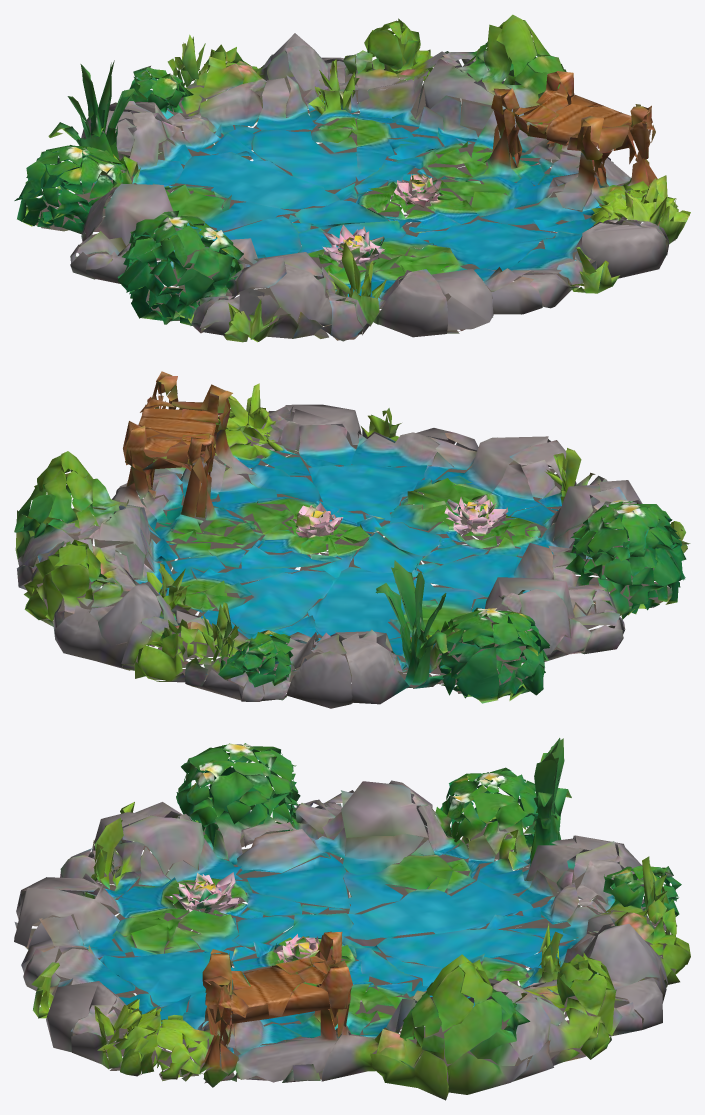
The model's file is lake.glb.
3 views of the same model, one above another, from view 1: azimuth 30°, elevation 25°; view 2: azimuth 150°, elevation 25°; view 3: azimuth 270°, elevation 25° (orthographic). The views are drawn at different scales.
Visible parts, largest first — view 1: Mesh_0; view 2: Mesh_0; view 3: Mesh_0.
Boxes of the visible parts, box(x1,y1,x2,y2) form: Mesh_0: box(14, 14, 690, 342); Mesh_0: box(14, 371, 690, 708); Mesh_0: box(14, 738, 690, 1100).
Bounding box in the file's own units: 1.9 × 0.4139 × 1.89.
Materials: 1 (1 with a texture image).
